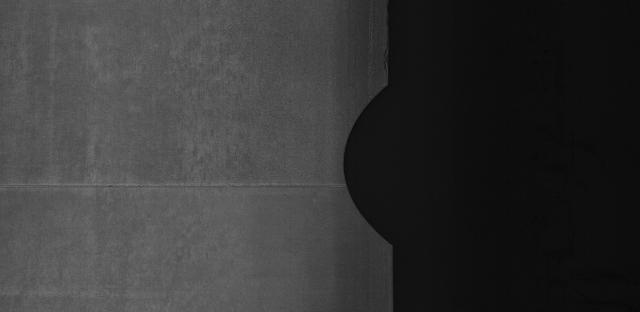welding_line: (6, 172, 359, 195)
